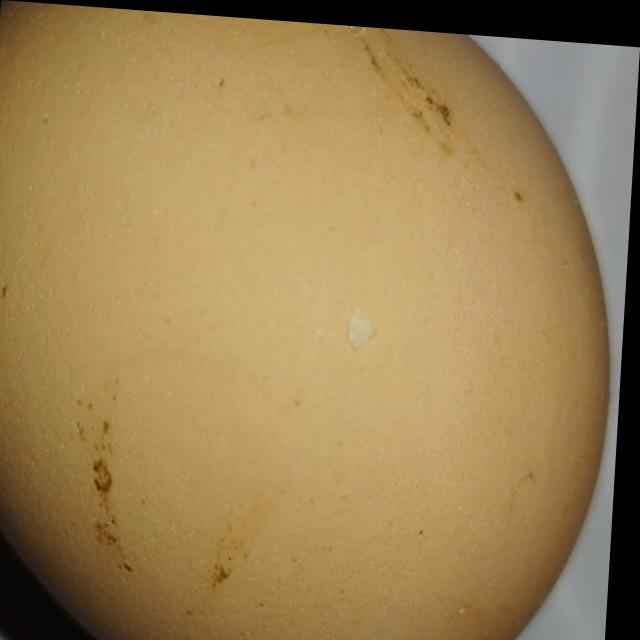fresh: (0, 0, 632, 640)
